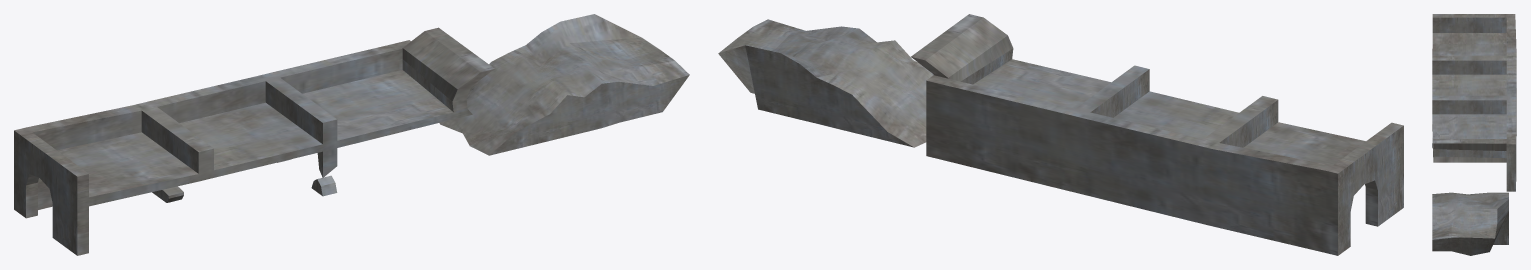
Rendered from Casarao 1.FBX.
3 views of the same model, side by side, from view 1: azimuth 30°, elevation 25°; view 2: azimuth 150°, elevation 25°; view 3: azimuth 270°, elevation 25° (orthographic). The views are drawn at different scales.
Visible parts, largest first — view 1: Box01, Box02; view 2: Box01, Box02; view 3: Box01, Box02.
Part boxes in pixels (x1=…): Box01: x1=14, y1=27, x2=494, y2=255; Box02: x1=439, y1=14, x2=689, y2=155; Box01: x1=911, y1=14, x2=1403, y2=255; Box02: x1=718, y1=19, x2=933, y2=147; Box01: x1=1432, y1=14, x2=1516, y2=191; Box02: x1=1432, y1=192, x2=1508, y2=255.
Bounding box in the file's own units: 8795 × 1246 × 1610.
